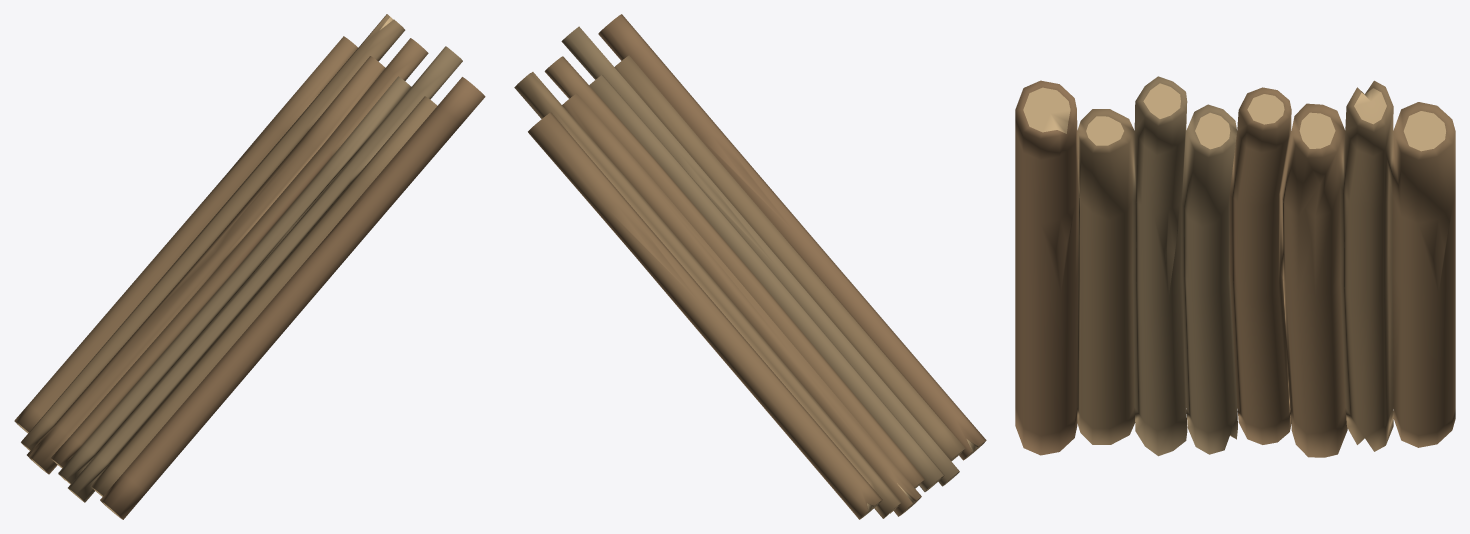
Rendered from rpgpp_ag_roof_01a_9x4x3_half.fbx.
3 views of the same model, side by side, from view 1: azimuth 30°, elevation 25°; view 2: azimuth 150°, elevation 25°; view 3: azimuth 270°, elevation 25° (orthographic). The views are drawn at different scales.
Visible parts, largest first — view 1: rpgpp_ag_roof_01a_9x4x3_half; view 2: rpgpp_ag_roof_01a_9x4x3_half; view 3: rpgpp_ag_roof_01a_9x4x3_half.
Part boxes in pixels (x1,y1,x2,y2): rpgpp_ag_roof_01a_9x4x3_half: (14,14,485,519); rpgpp_ag_roof_01a_9x4x3_half: (514,14,986,519); rpgpp_ag_roof_01a_9x4x3_half: (1015,76,1455,457).
Bounding box in the file's own units: 6.18 × 5.52 × 3.
